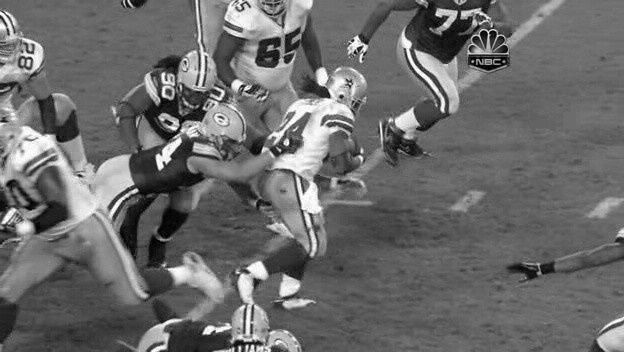person: (328, 65, 364, 111), (327, 65, 363, 111), (329, 65, 365, 111), (328, 64, 364, 110), (328, 66, 364, 112)
target_negative: (515, 32, 618, 350), (312, 29, 459, 136), (325, 203, 502, 289), (337, 217, 438, 253), (462, 282, 474, 324), (618, 236, 624, 303)
